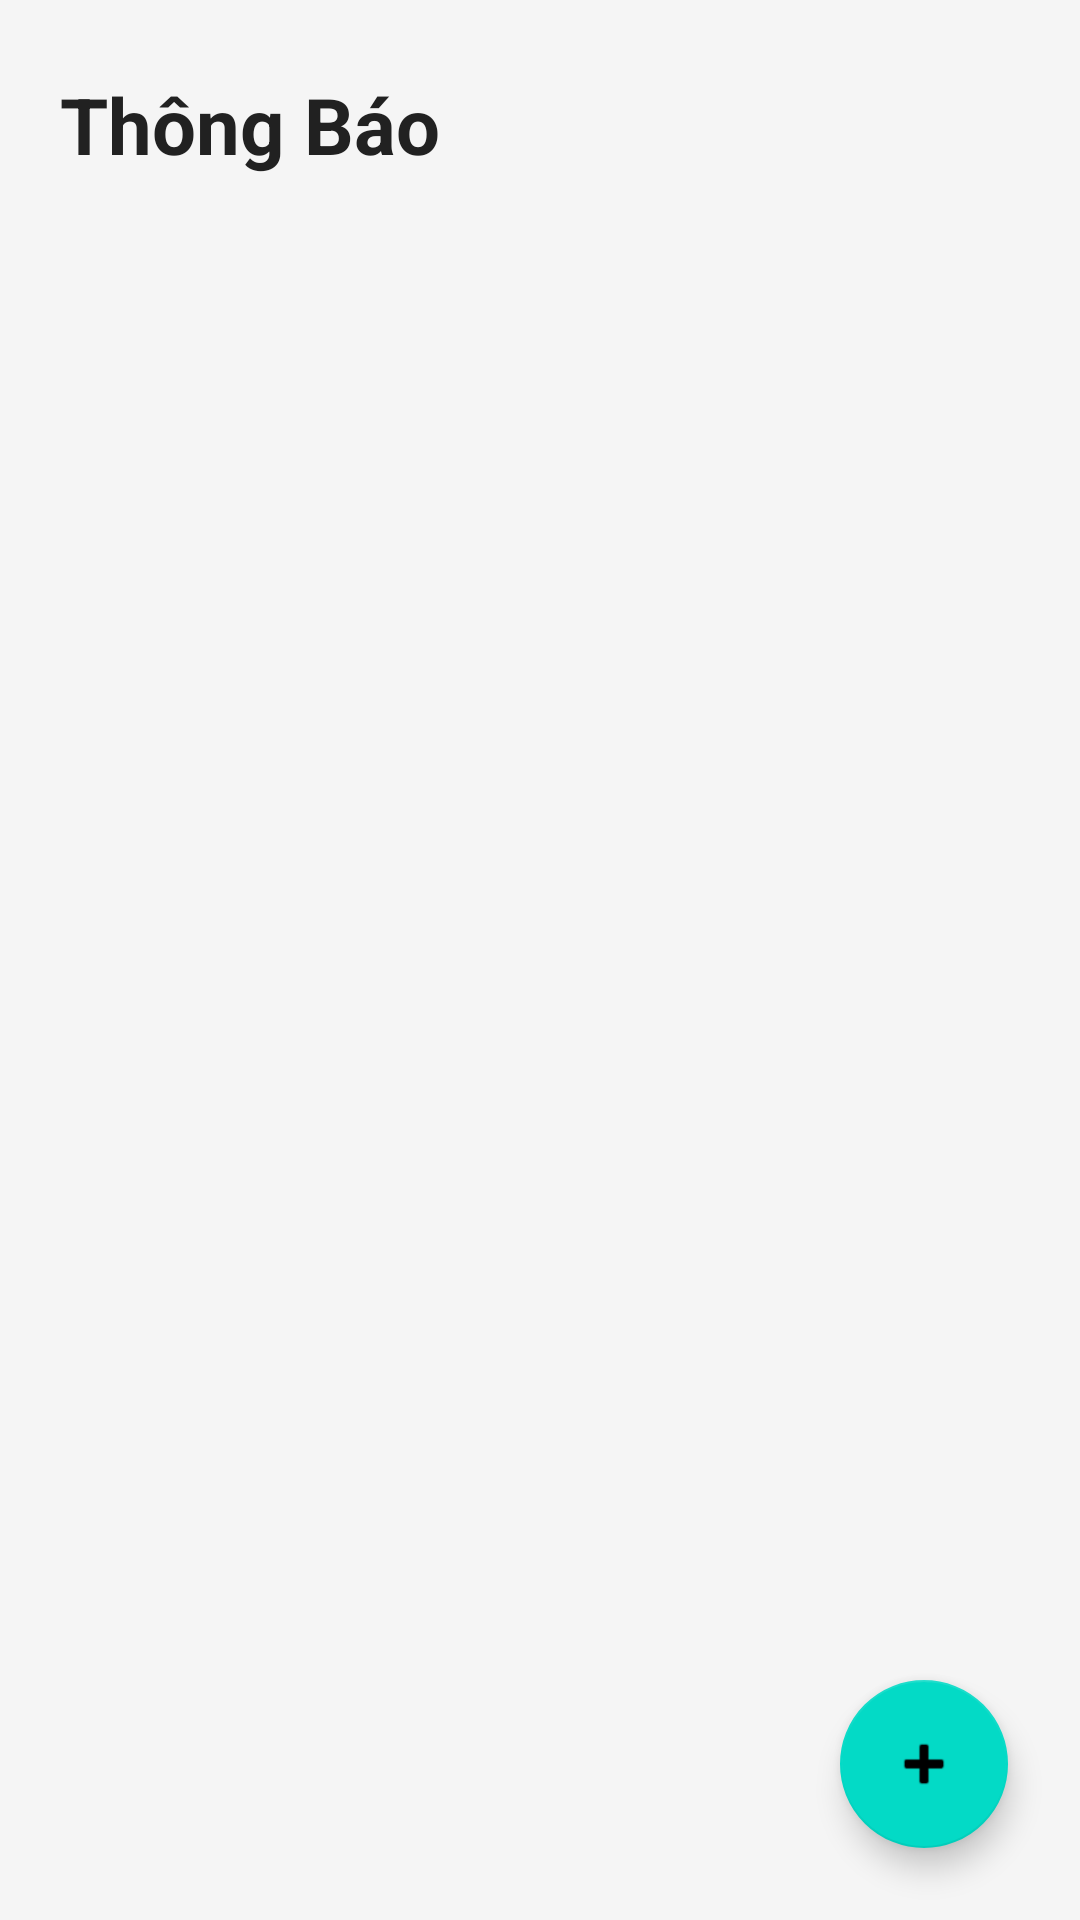

Where icons sit on this 1080px×1920px app screen, as (x1, y1, x2, y2):
Tạo thông báo: (840, 1680, 1008, 1848)
